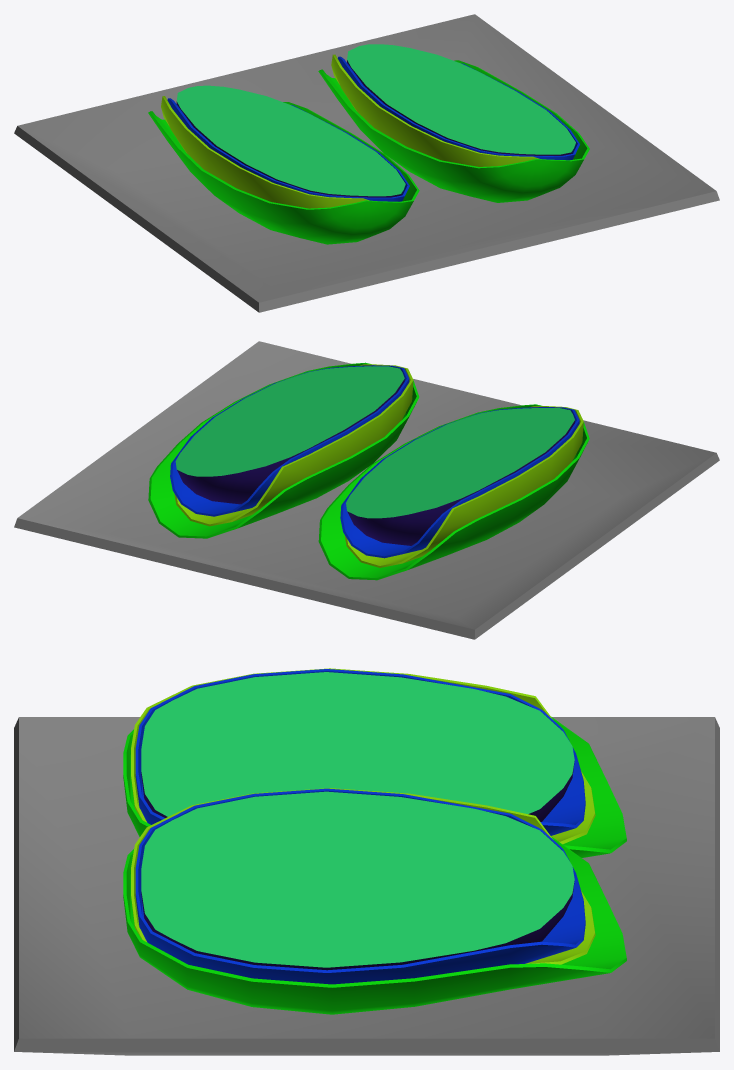
The model's file is Kimchi.fbx.
3 views of the same model, one above another, from view 1: azimuth 30°, elevation 25°; view 2: azimuth 150°, elevation 25°; view 3: azimuth 270°, elevation 25° (orthographic). The views are drawn at different scales.
Visible parts, largest first — view 1: Plate 06, Kimchi; view 2: Plate 06, Kimchi; view 3: Kimchi, Plate 06.
Part boxes in pixels (left/top/right/bottom): Plate 06: left=14, top=14, right=719, bottom=312; Kimchi: left=148, top=44, right=589, bottom=244; Plate 06: left=14, top=341, right=719, bottom=639; Kimchi: left=148, top=362, right=589, bottom=580; Kimchi: left=123, top=668, right=626, bottom=1014; Plate 06: left=14, top=717, right=719, bottom=1055.
Size of the model in its own units: 55.06 by 12.54 by 50.74.
